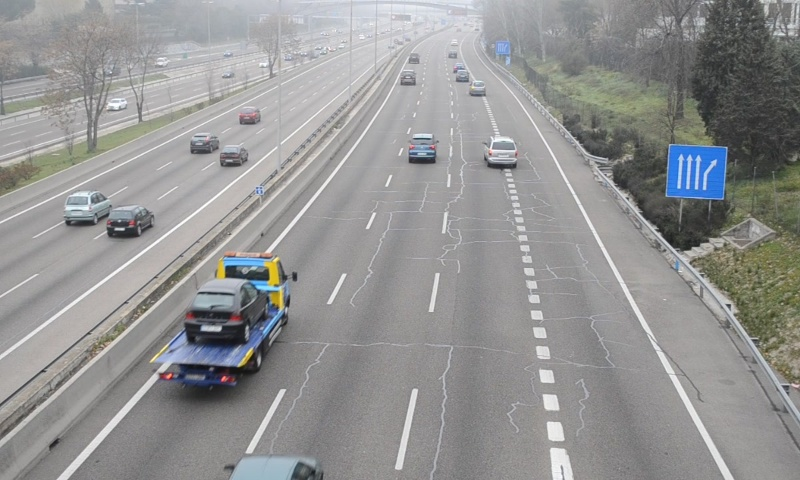car: (486, 135, 518, 167), (408, 132, 437, 160), (469, 80, 486, 97), (400, 70, 416, 86)
small-truck: (150, 250, 290, 384)
